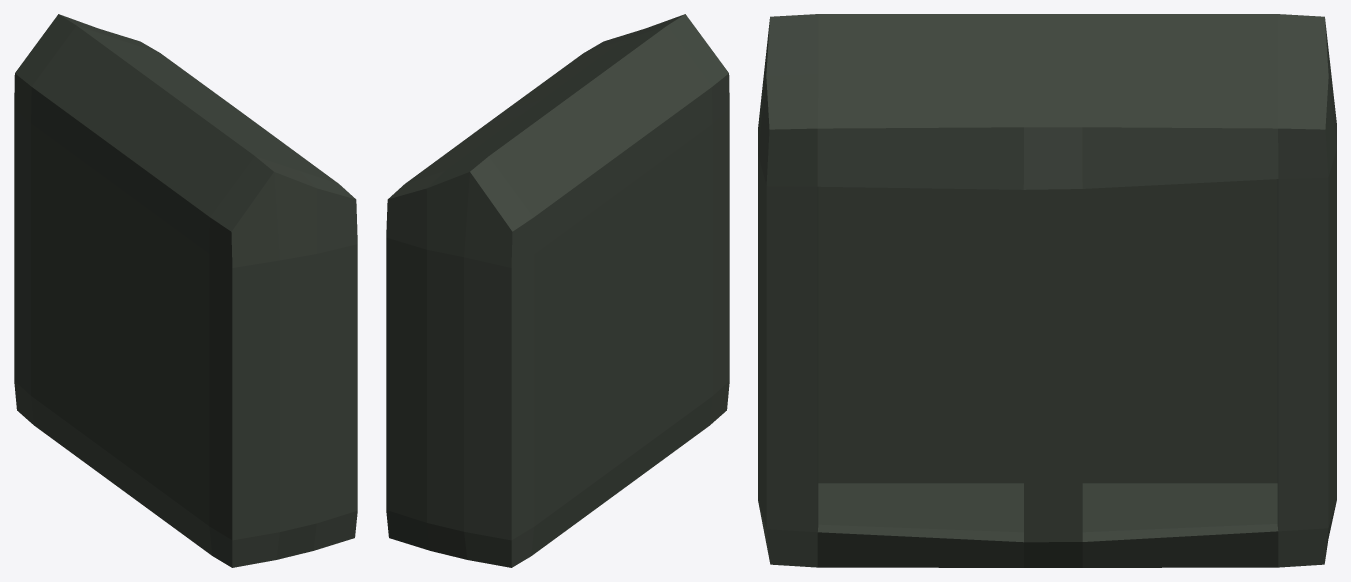
The model's file is SM_Prop_ElectricCabinet_open.fbx.
3 views of the same model, side by side, from view 1: azimuth 30°, elevation 25°; view 2: azimuth 150°, elevation 25°; view 3: azimuth 270°, elevation 25° (orthographic). The views are drawn at different scales.
Visible parts, largest first — view 1: Cube_Open.001; view 2: Cube_Open.001; view 3: Cube_Open.001.
Part boxes in pixels (<box>): Cube_Open.001: <box>14,14,357,567</box>; Cube_Open.001: <box>386,14,729,567</box>; Cube_Open.001: <box>758,14,1336,567</box>.
Size of the model in its own units: 349 by 129 by 336.
